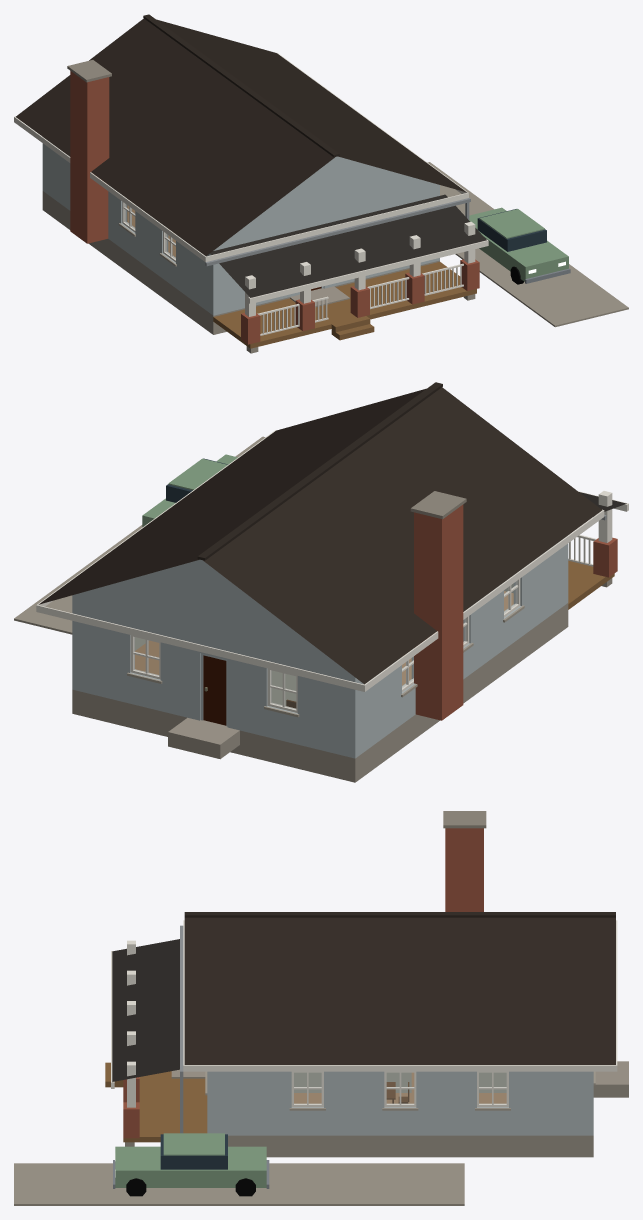
File: bungalow.glb
3 views of the same model, one above another, from view 1: azimuth 30°, elevation 25°; view 2: azimuth 150°, elevation 25°; view 3: azimuth 270°, elevation 25° (orthographic). The views are drawn at different scales.
Visible parts, largest first — view 1: LOD0; view 2: LOD0, LEAF1; view 3: LOD0.
Boxes of the visible parts, x1,y1,x2,y2 form: LOD0: [14, 14, 628, 353]; LOD0: [14, 382, 628, 782]; LEAF1: [203, 655, 226, 725]; LOD0: [14, 811, 628, 1205].
Size of what is drawn, in the model's own units: 14.32 by 7.15 by 19.1.
